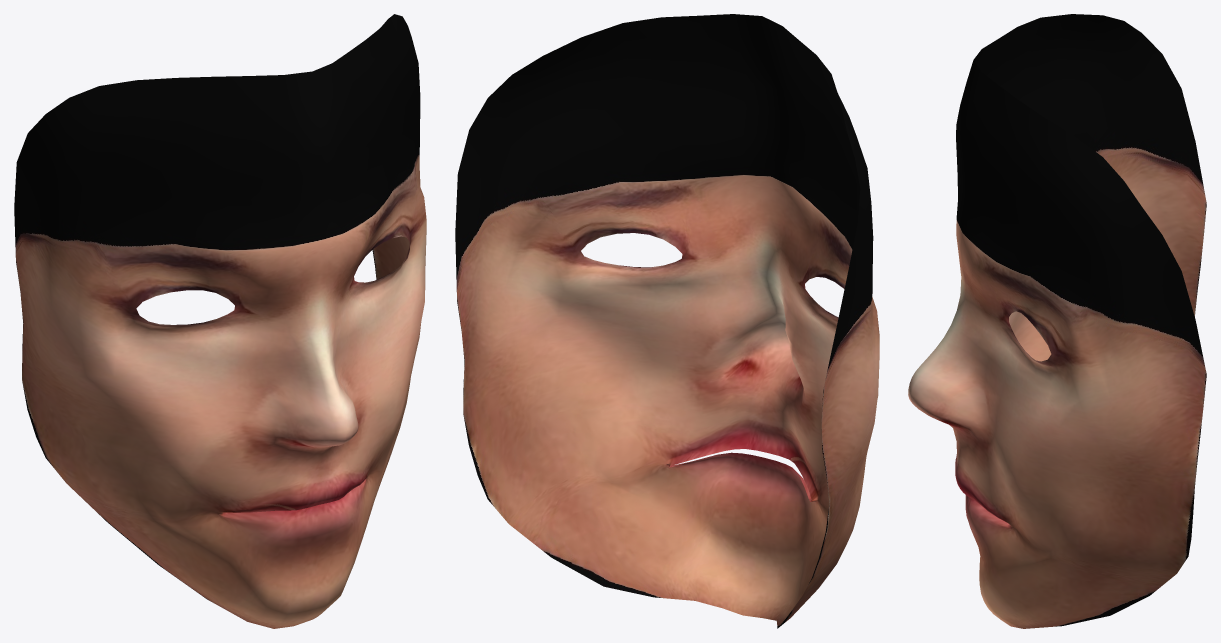
The model's file is 1OrgFace.obj.
The picture shows the model from 3 angles, left to right: view 1: azimuth 30°, elevation 25°; view 2: azimuth 150°, elevation 25°; view 3: azimuth 270°, elevation 25°; orthographic projection. The views are drawn at different scales.
Parts seen in each view (by area): view 1: Plane003; view 2: Plane003; view 3: Plane003.
Boxes of the visible parts, left/top/right/bottom form: Plane003: left=14, top=14, right=426, bottom=628; Plane003: left=455, top=14, right=879, bottom=628; Plane003: left=908, top=14, right=1206, bottom=628.
Bounding box in the file's own units: 26.54 × 37.96 × 18.37.
Materials: 1 (1 with a texture image).
